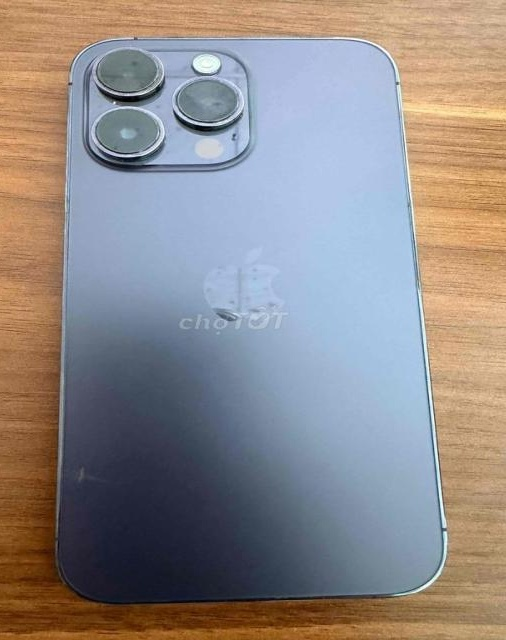scratch: (183, 237, 295, 344), (88, 96, 161, 164), (64, 450, 145, 507), (83, 46, 171, 96), (170, 75, 243, 134)
